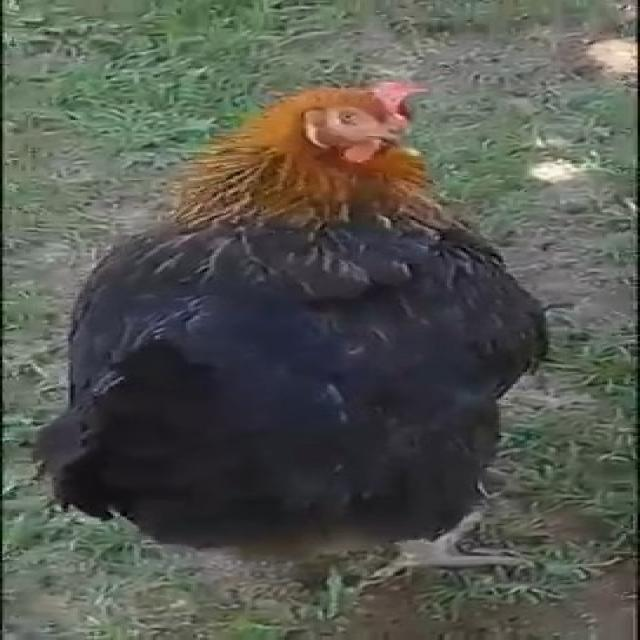self preening: (64, 80, 551, 560)
